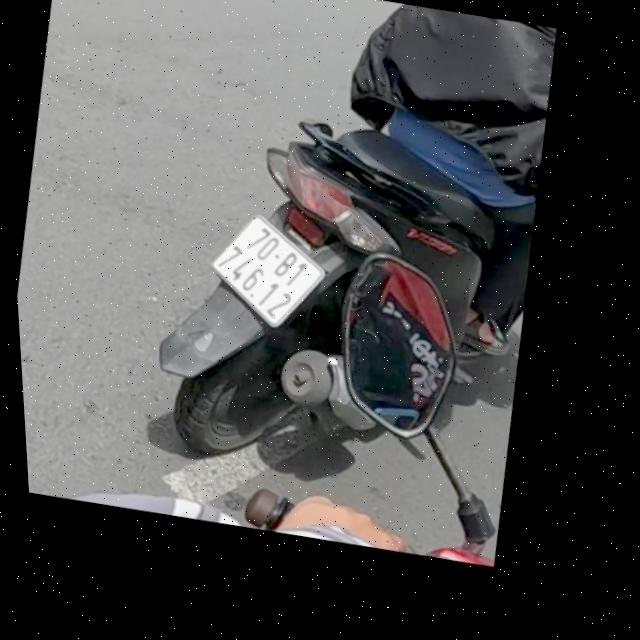motorcycle: (116, 84, 543, 519)
plate: (191, 199, 340, 337)
